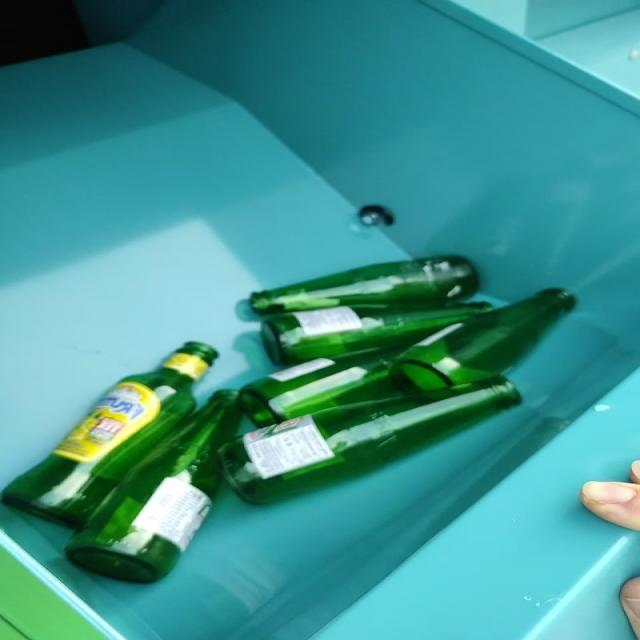Glass: (1, 256, 576, 584)
